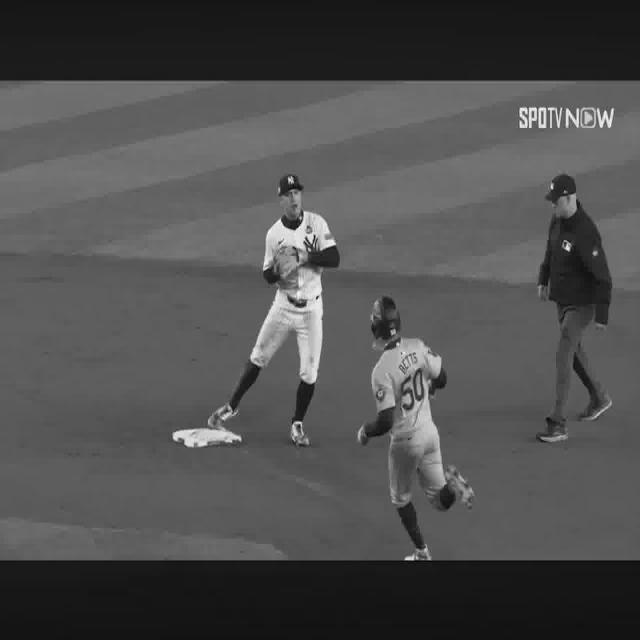base: (172, 428, 242, 448)
baseball_glove: (274, 247, 309, 278)
shoe: (445, 465, 475, 508), (579, 393, 612, 420), (208, 403, 239, 430), (536, 420, 568, 443), (290, 420, 310, 447), (406, 552, 432, 562)
